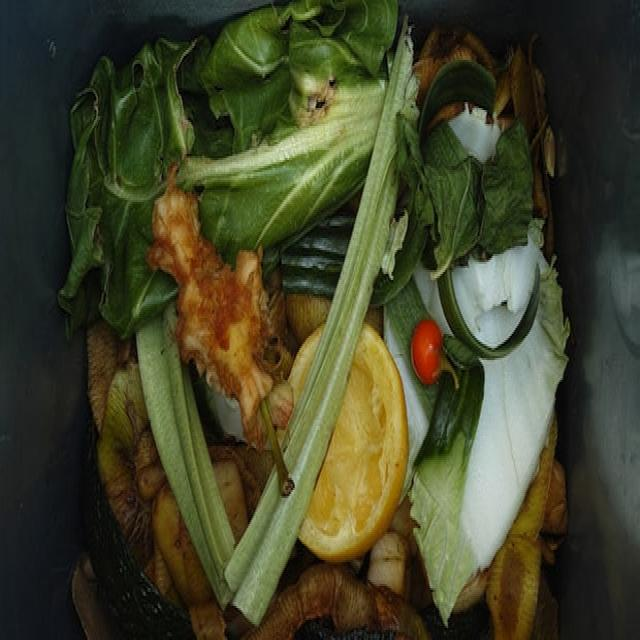food_waste: (95, 81, 521, 569)
